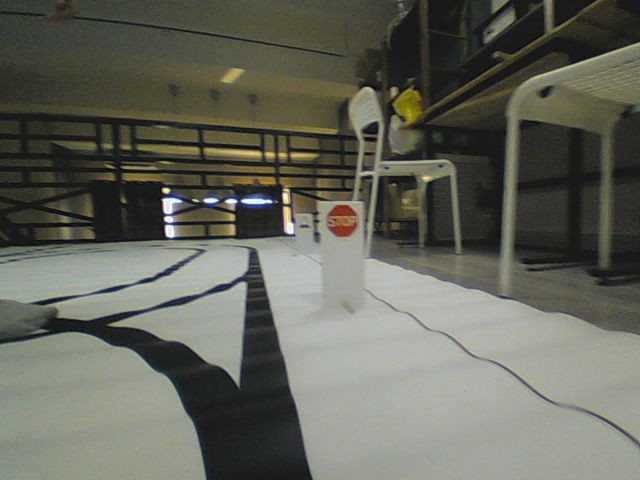Stop: (325, 203, 359, 238)
